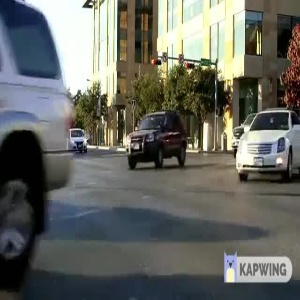car: (228, 106, 300, 190)
suv: (121, 106, 188, 179)
